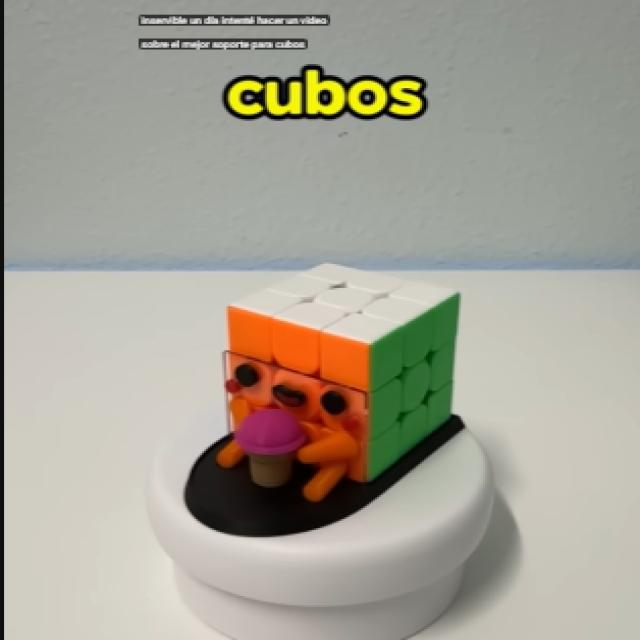Cubo-Resuelto: (226, 264, 455, 499)
